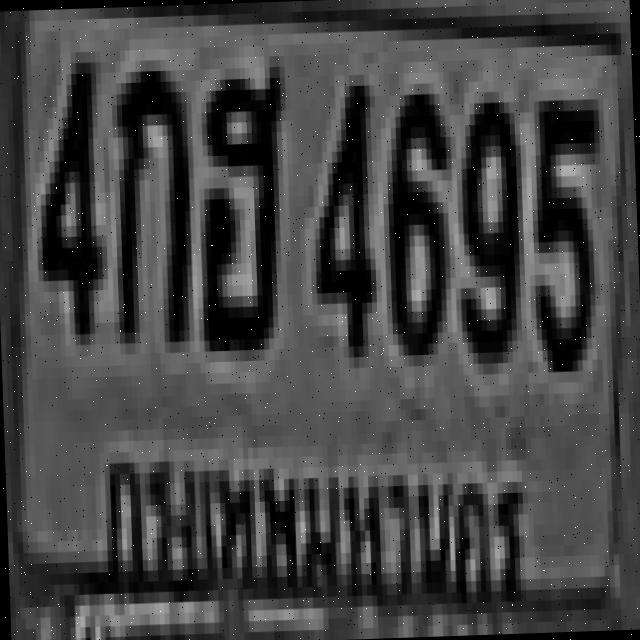10GorGai: (105, 60, 189, 332)
4: (30, 41, 100, 336), (304, 64, 373, 348)
5: (523, 88, 602, 361)
53HorNokHook: (189, 56, 288, 341)
6: (378, 82, 448, 356)
9: (448, 80, 522, 353)
Bangkok: (90, 418, 534, 634)
